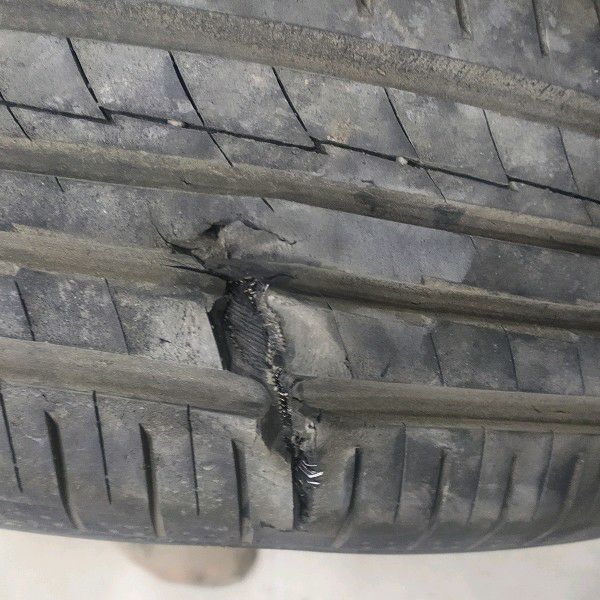bead_damage: (152, 209, 328, 532)
tr: (154, 211, 330, 534)
